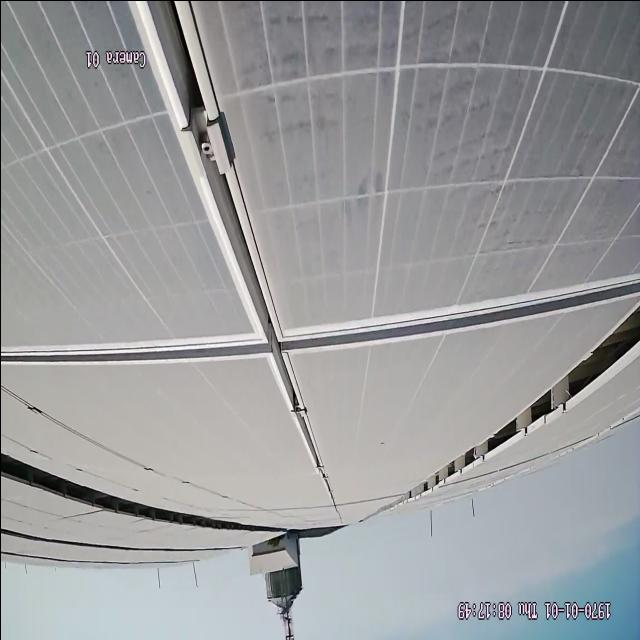interior panel: (2, 6, 638, 498)
outher panel: (391, 310, 633, 512), (3, 450, 260, 533)
